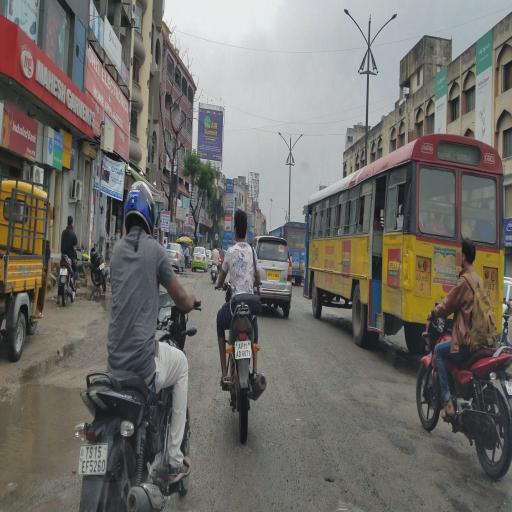street_light_0: (366, 9, 406, 79), (330, 4, 370, 74), (289, 126, 309, 164), (271, 125, 290, 163)
